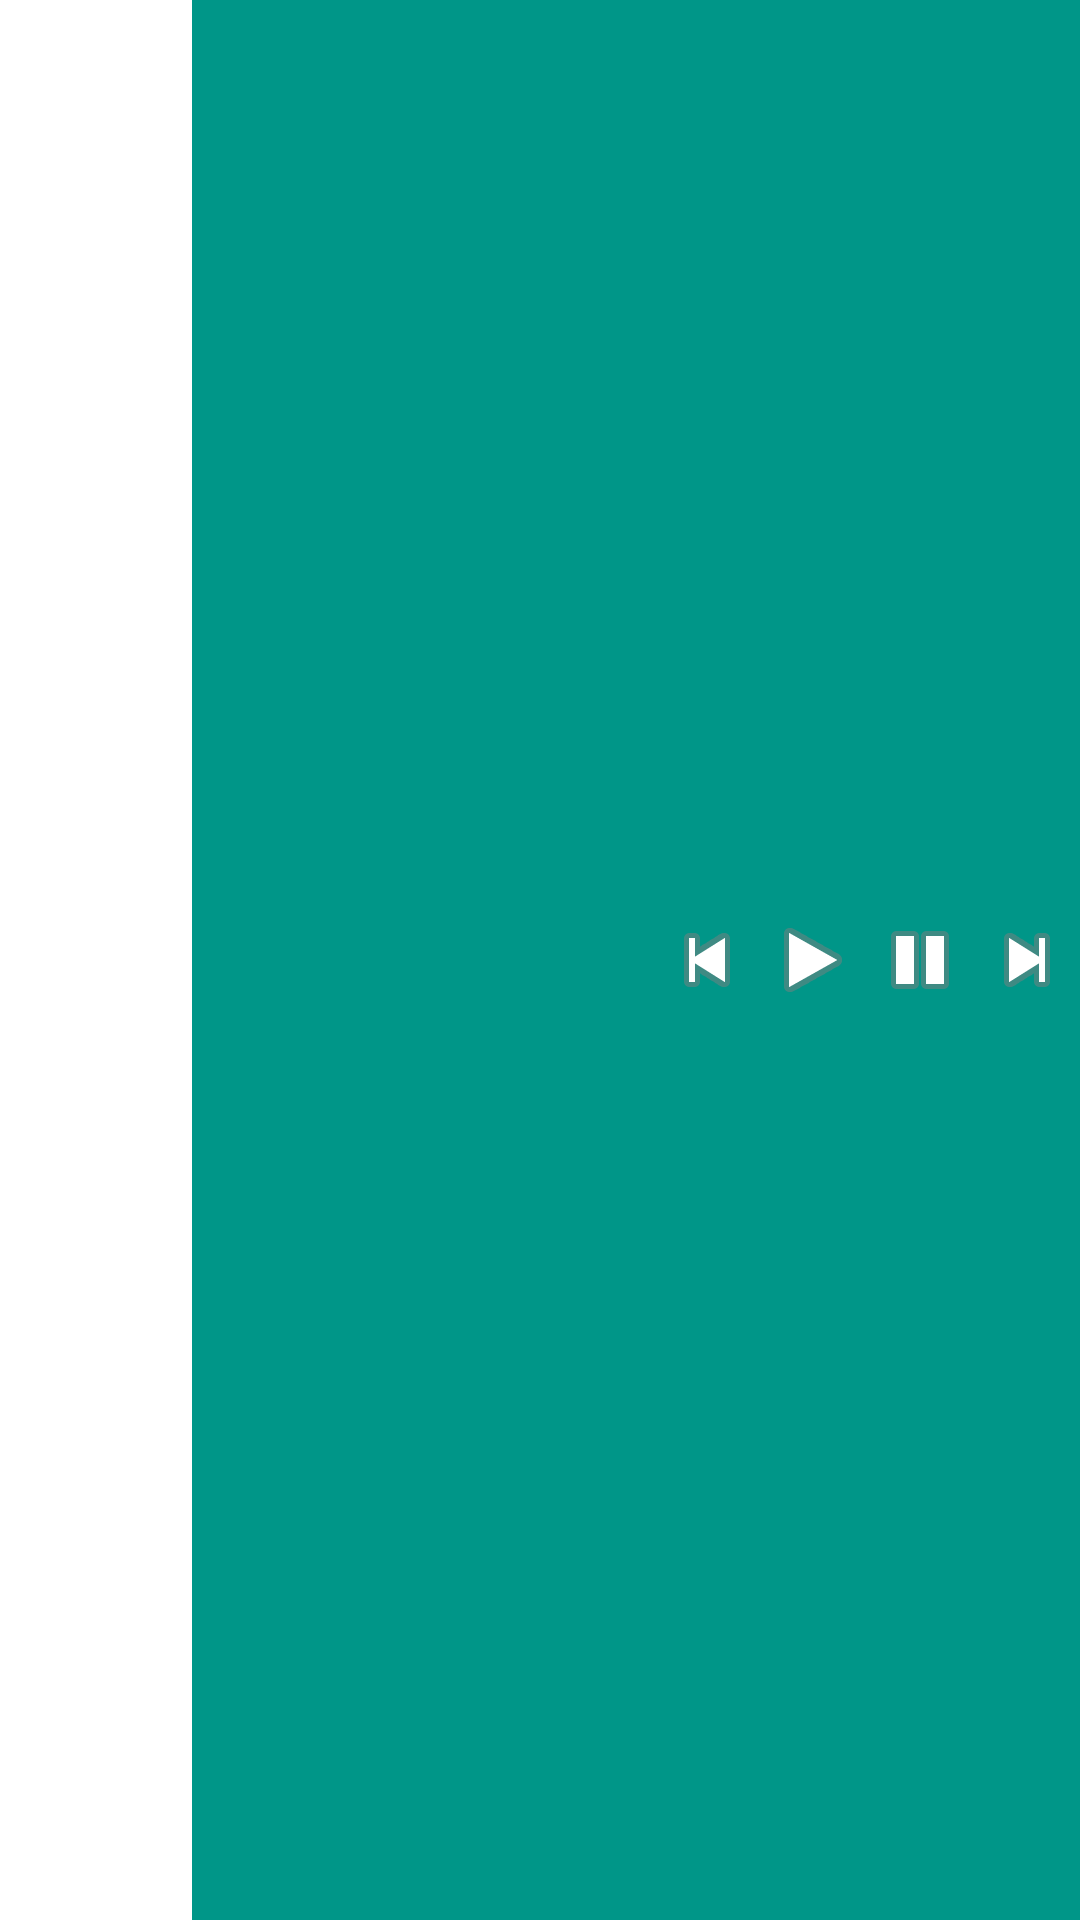

Icons on this 1080x1920 Android screen, each with the point to tap as (x=x, y=y):
Next Track: (x=1027, y=960)
Pause: (x=920, y=960)
Play: (x=813, y=960)
Previous Track: (x=707, y=960)
